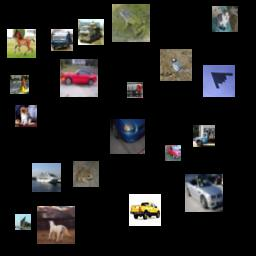airplane: (203, 65, 235, 97)
automobile: (185, 174, 223, 212), (60, 59, 98, 97), (110, 119, 145, 154), (129, 194, 161, 226), (165, 145, 181, 161)
bird: (160, 49, 192, 81)
cat: (212, 6, 238, 32)
dog: (15, 105, 37, 127)
frog: (112, 4, 150, 42), (73, 161, 99, 187)
ship: (32, 163, 61, 192), (10, 75, 29, 94), (15, 214, 31, 230)
truck: (78, 19, 104, 45), (193, 125, 215, 147), (51, 29, 73, 51), (127, 82, 143, 98)
